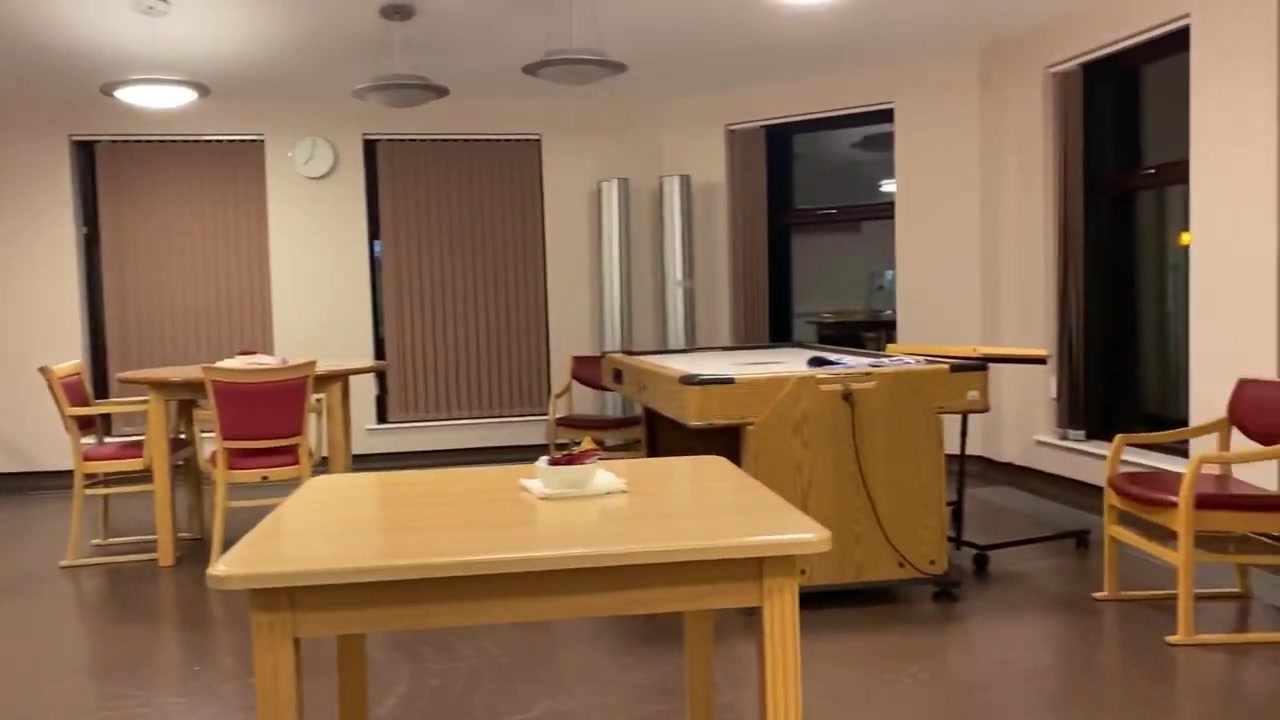chair: (1091, 377, 1280, 645), (35, 358, 205, 569), (192, 364, 324, 579), (548, 354, 646, 459)
table: (207, 452, 832, 720), (113, 360, 390, 569)
